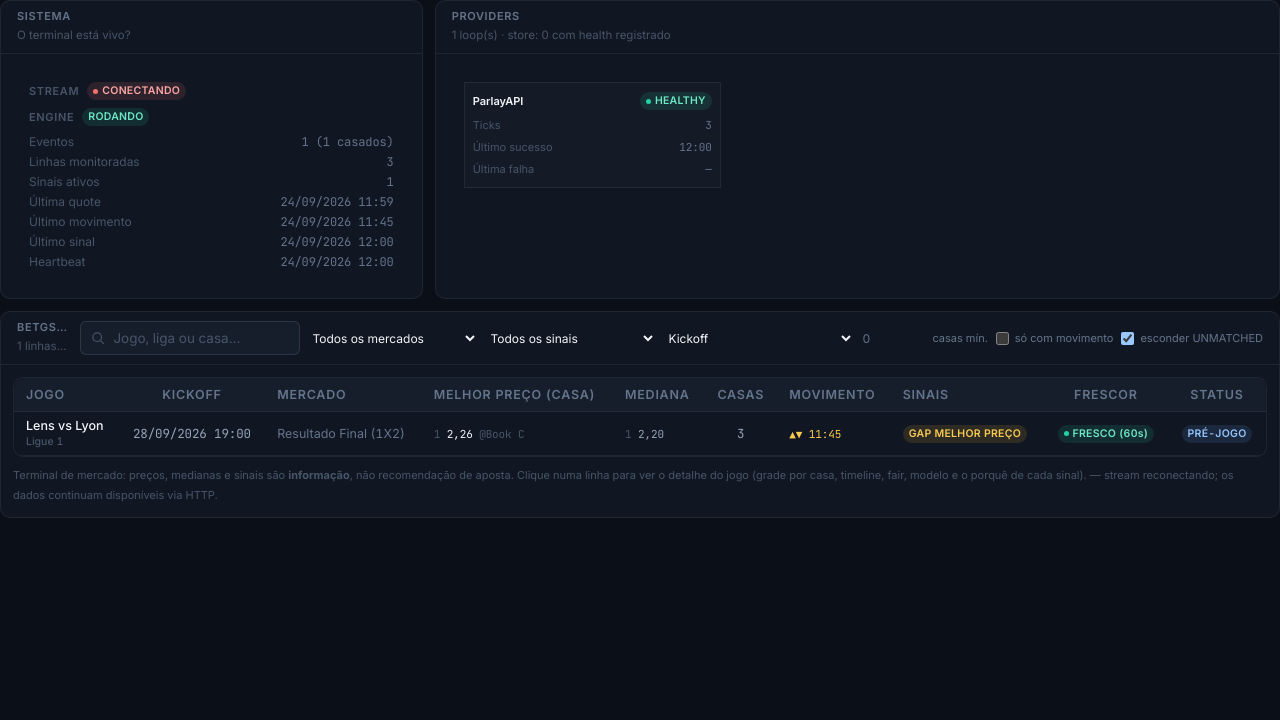
Test: LivePage › mostra CLV n=0 explicito no detalhe do jogo
Expected: the text "Lens vs Lyon" is shown, [26,418,107,434]
Click the text "Lens vs Lyon": (640,434) [14,412,1266,456]
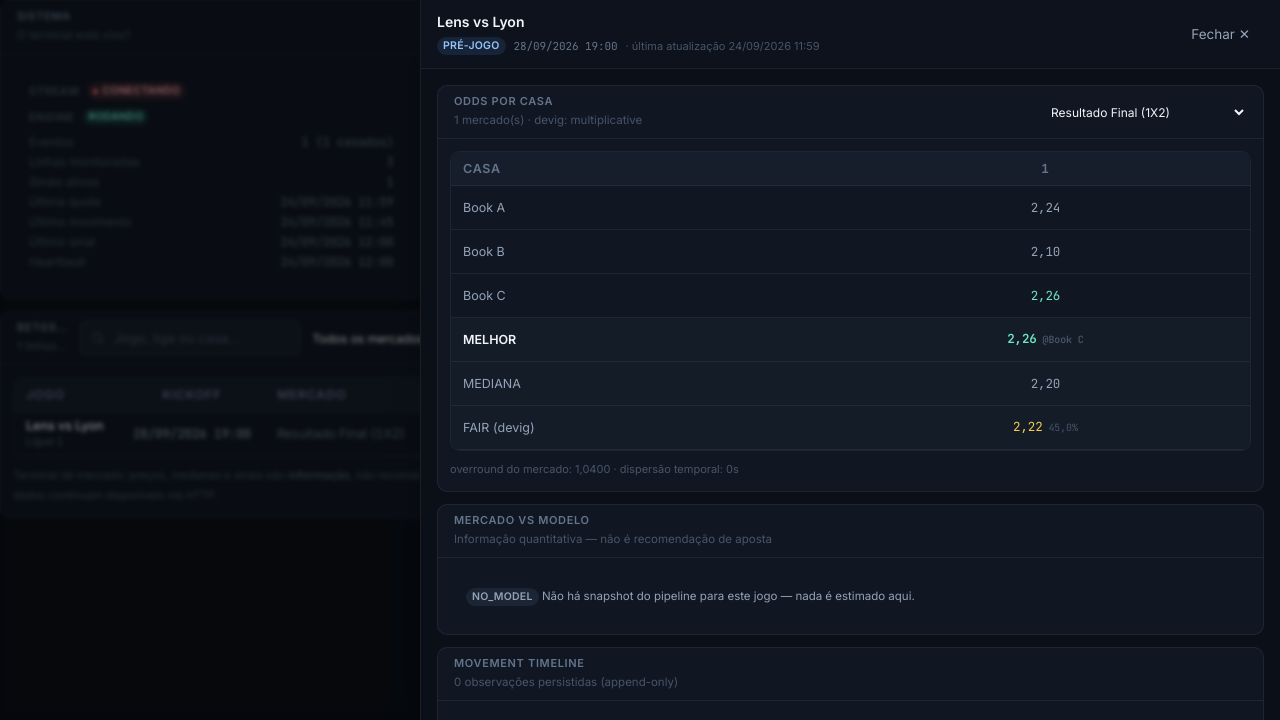
Expected: the text "NO_MODEL" is shown, [466,588,539,606]
